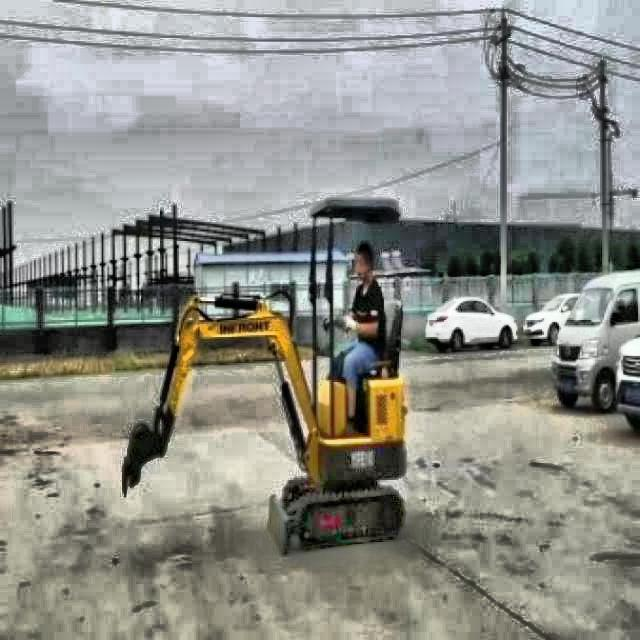bull_dozer/loader/grader: (119, 197, 408, 558)
person: (332, 238, 388, 426)
